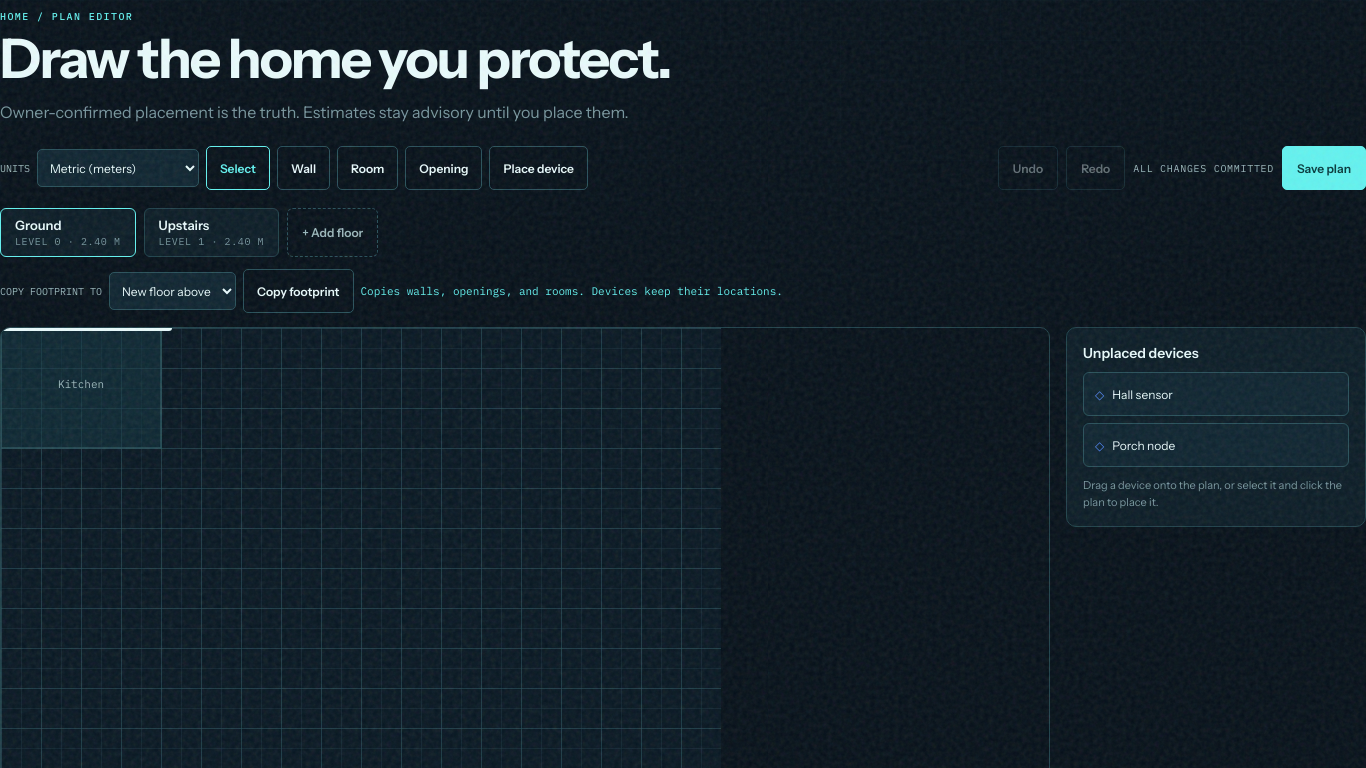
Scenario: HomeEditorView › adopts a parent-provided snapshot without fetching and reports committed saves (M-27)
This screenshot has width=1366, height=768.
Check: the button "Ground level 0 · 2.40 m" is shown, box [0, 208, 136, 257]
Click the button "Save plan": (1324, 168) [1282, 146, 1365, 190]
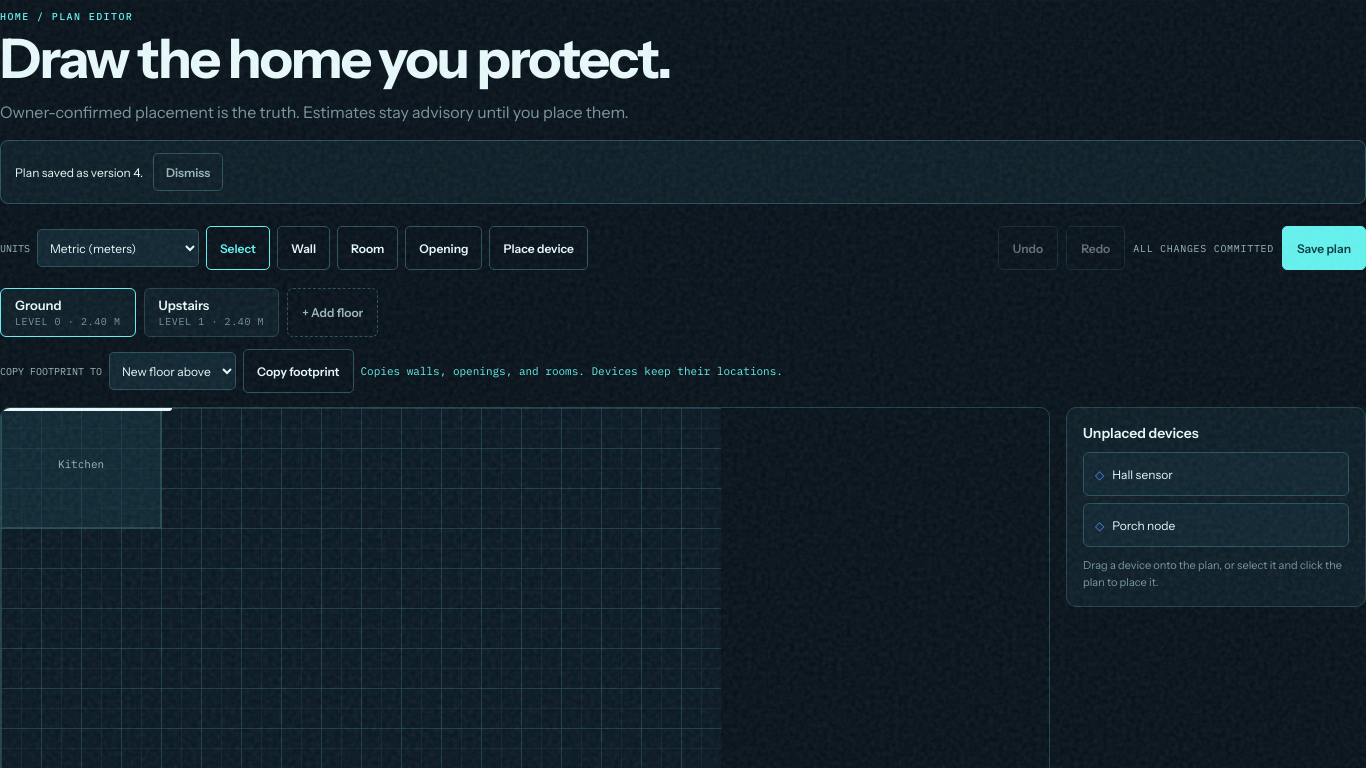
Check: the text "Plan saved as version 4. Dismiss" is shown, box [0, 140, 1365, 204]
